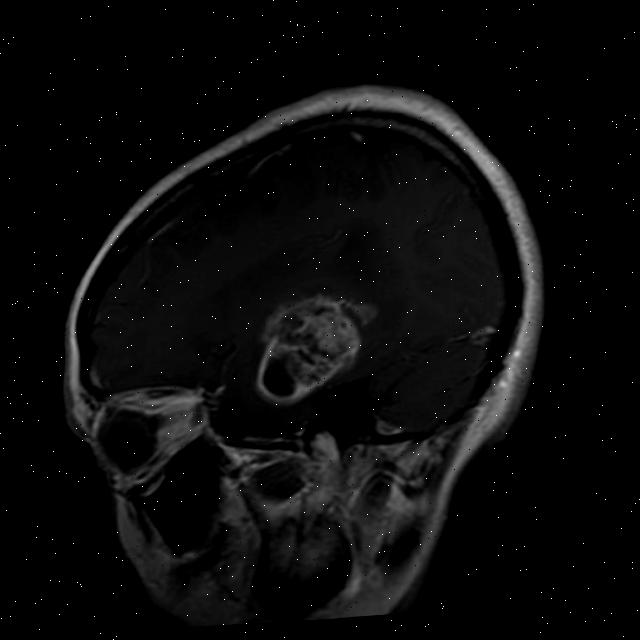Glioma: (251, 287, 382, 409)
